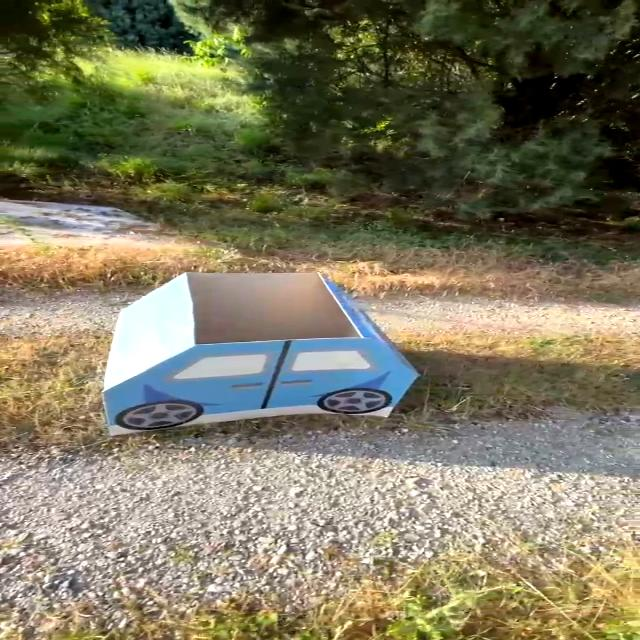blue_car: (69, 240, 441, 472)
